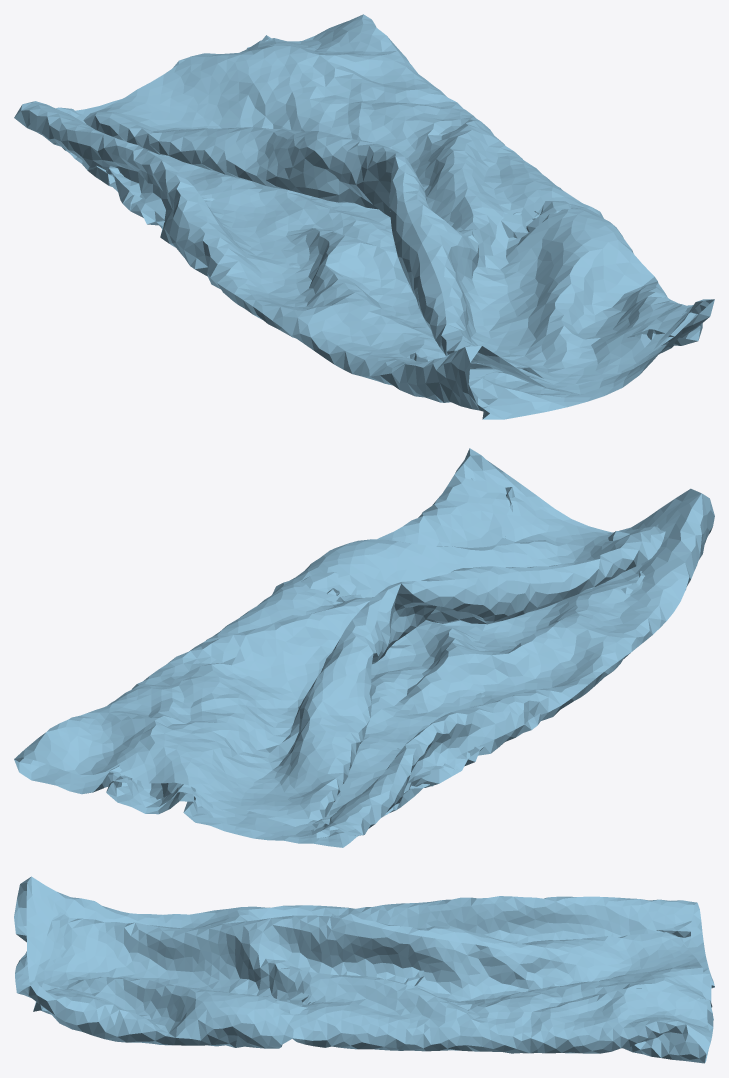
Rendered from frame_01.glb.
3 views of the same model, one above another, from view 1: azimuth 30°, elevation 25°; view 2: azimuth 150°, elevation 25°; view 3: azimuth 270°, elevation 25° (orthographic). The views are drawn at different scales.
Visible parts, largest first — view 1: frame_01.obj; view 2: frame_01.obj; view 3: frame_01.obj.
Boxes of the visible parts, <box> form: frame_01.obj: <box>14,14,714,419</box>; frame_01.obj: <box>14,448,714,847</box>; frame_01.obj: <box>14,876,714,1063</box>.
Size of the model in its own units: 0.883 by 0.2264 by 1.74.
